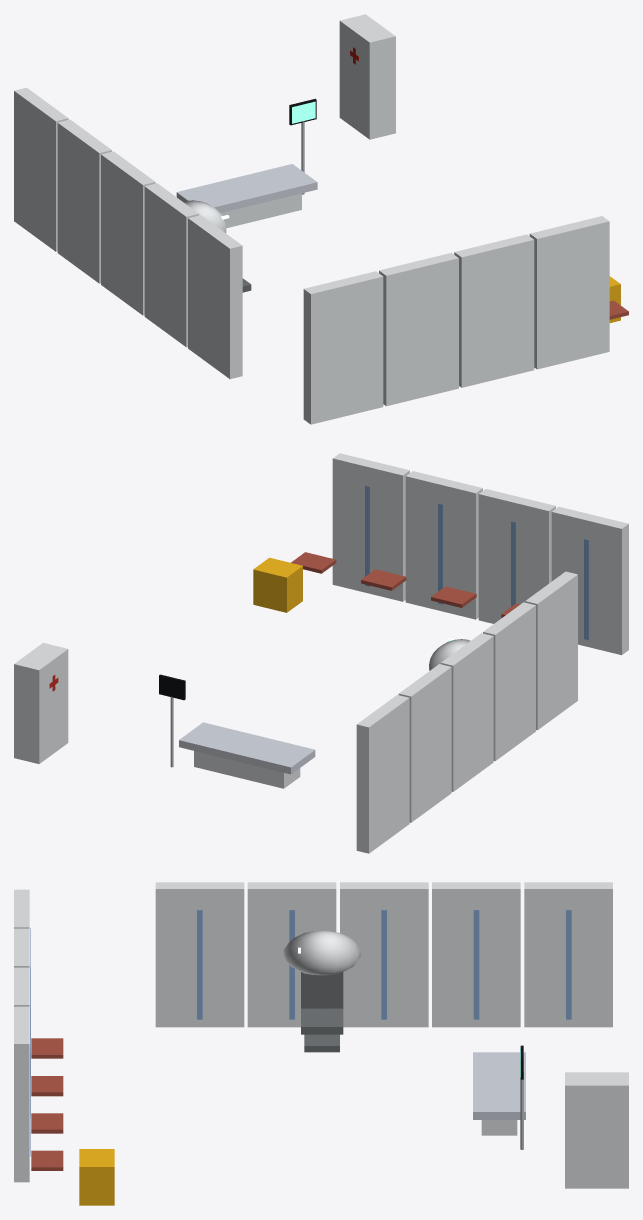
Rendered from medical_storm_shelter.glb.
3 views of the same model, one above another, from view 1: azimuth 30°, elevation 25°; view 2: azimuth 150°, elevation 25°; view 3: azimuth 270°, elevation 25° (orthographic). The views are drawn at different scales.
Parts seen in each view (by area): view 1: white_plastic; view 2: white_plastic, fabric_med, water; view 3: white_plastic, water, fabric_chair, fabric_med.
Part boxes in pixels (x1,y1,x2,y2): white_plastic: (14, 14, 620, 424); white_plastic: (14, 453, 628, 853); fabric_med: (291, 552, 519, 617); water: (365, 486, 588, 639); white_plastic: (14, 882, 628, 1205); water: (30, 910, 571, 1156); fabric_chair: (301, 972, 343, 1052); fabric_med: (31, 1038, 63, 1170).
Bounding box in the file's own units: 6.19 × 2.18 × 8.67.
Materials: 6 (6 with a texture image).
